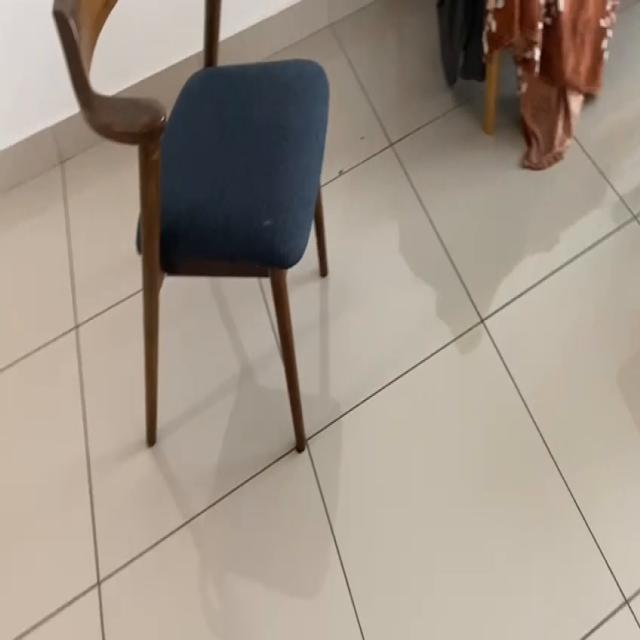Chair: (52, 0, 327, 452)
